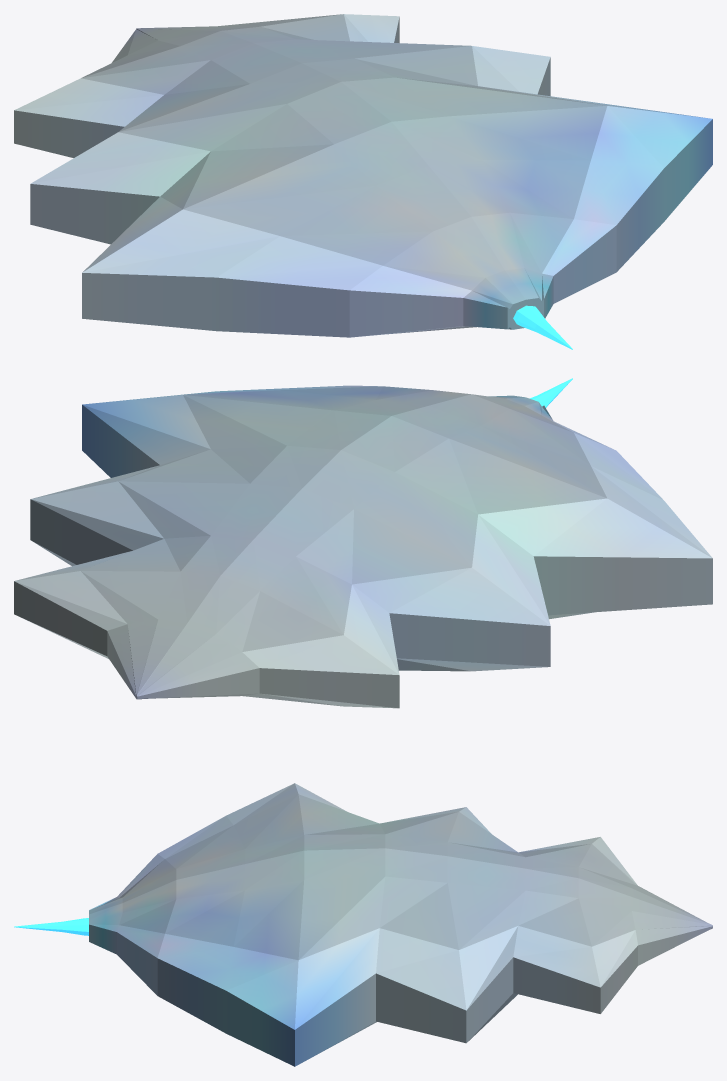
Rendered from 05_schlachtschiff.glb.
3 renders of one model, top to bottom at view 1: azimuth 30°, elevation 25°; view 2: azimuth 150°, elevation 25°; view 3: azimuth 270°, elevation 25°, orthographic. The views are drawn at different scales.
Parts seen in each view (by area): view 1: Hull, FX_drive; view 2: Hull; view 3: Hull, FX_drive.
Part boxes in pixels (x1,y1,x2,y2): Hull: (14, 14, 712, 337); FX_drive: (513, 305, 572, 349); Hull: (14, 385, 712, 708); Hull: (89, 783, 712, 1066); FX_drive: (14, 918, 88, 935).
Size of the model in its own units: 19.82 by 5.33 by 23.71.
